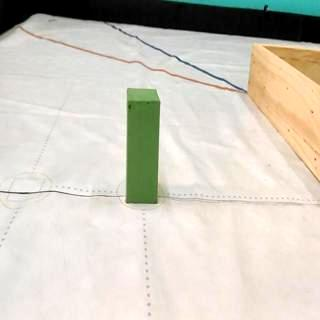greenbox: (125, 86, 163, 204)
